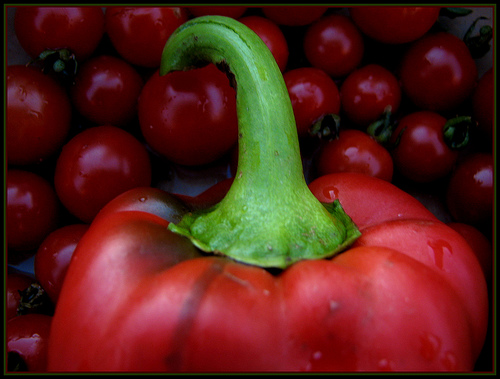capsicum: (44, 14, 491, 378)
